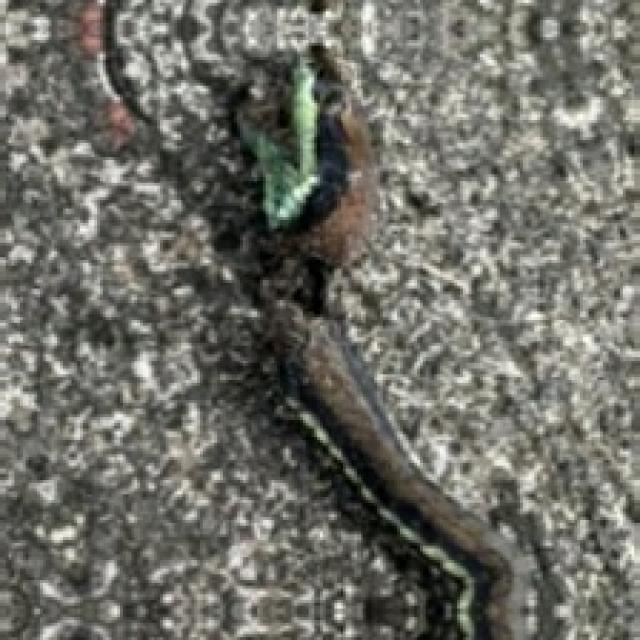philippine bronzeback treesnake: (103, 0, 537, 637)
